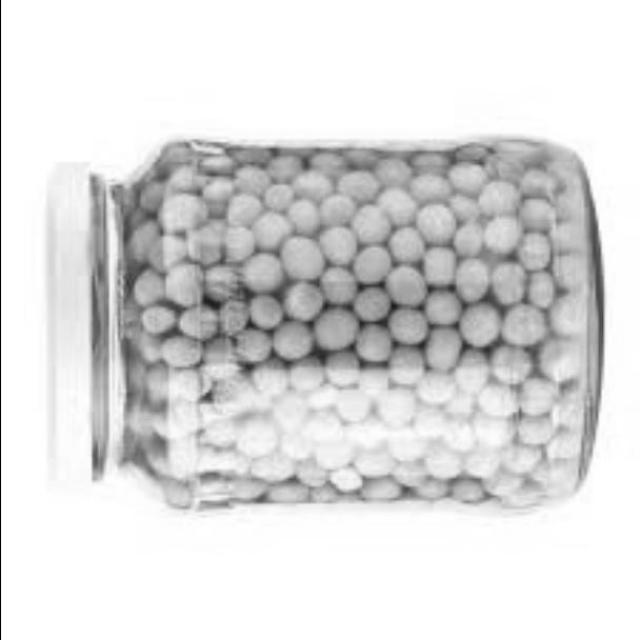peas: (132, 141, 594, 512)
